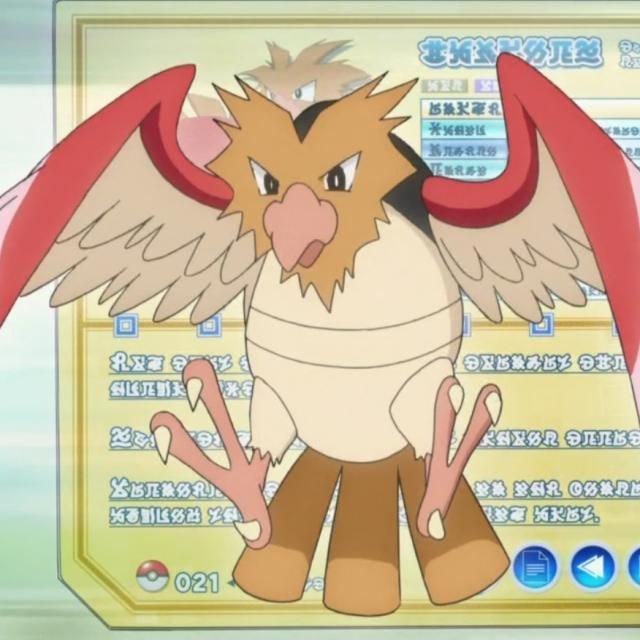Spearow: (145, 48, 525, 614)
